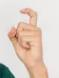anticlockwise: (5, 4, 44, 67)
